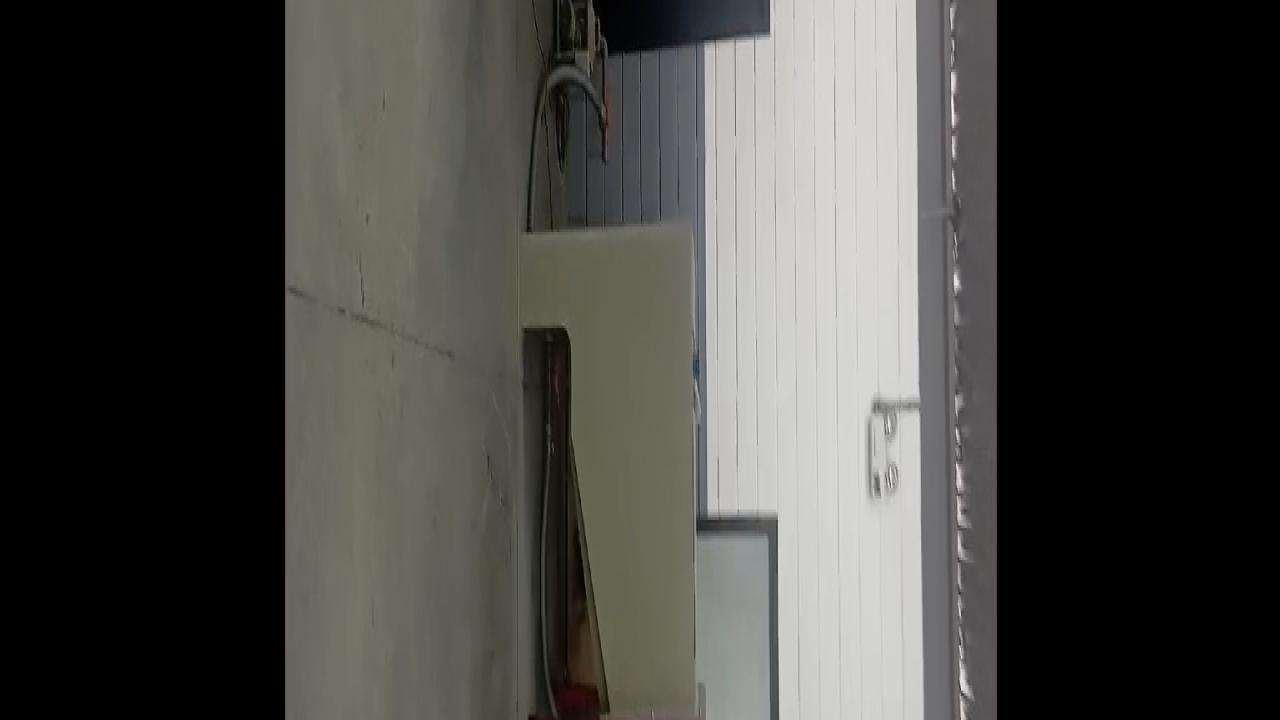Cube: (692, 354, 699, 380)
